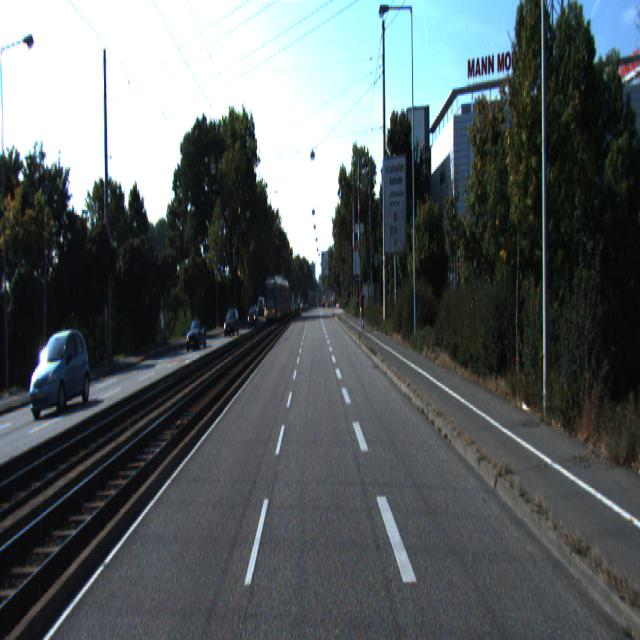Car: (29, 328, 94, 422), (185, 318, 207, 352)
DontCare: (223, 308, 238, 340), (247, 297, 264, 325), (357, 284, 366, 329)
